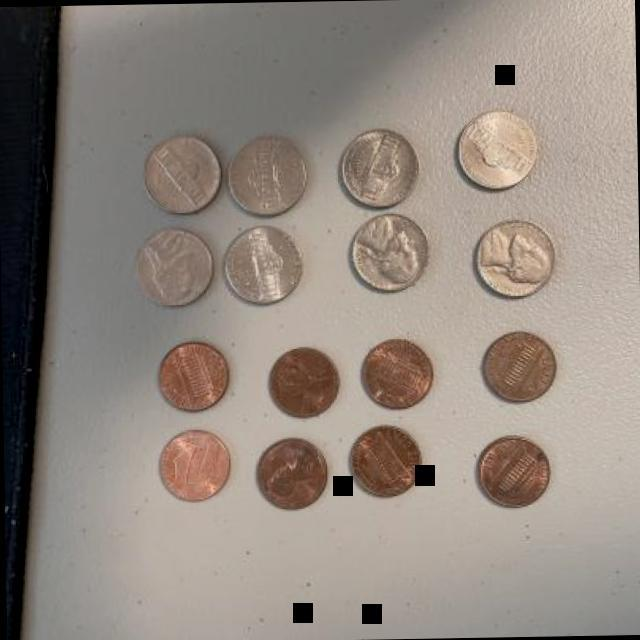Nickel: (472, 216, 556, 303), (456, 104, 539, 191), (220, 220, 302, 306), (132, 224, 214, 307), (224, 134, 306, 217), (338, 128, 421, 208), (348, 210, 428, 292), (142, 136, 222, 218)
Penny: (480, 327, 554, 404), (358, 334, 432, 411), (474, 433, 548, 510), (348, 422, 422, 498), (265, 344, 339, 419), (156, 338, 230, 412), (156, 428, 230, 502), (253, 436, 324, 510)
